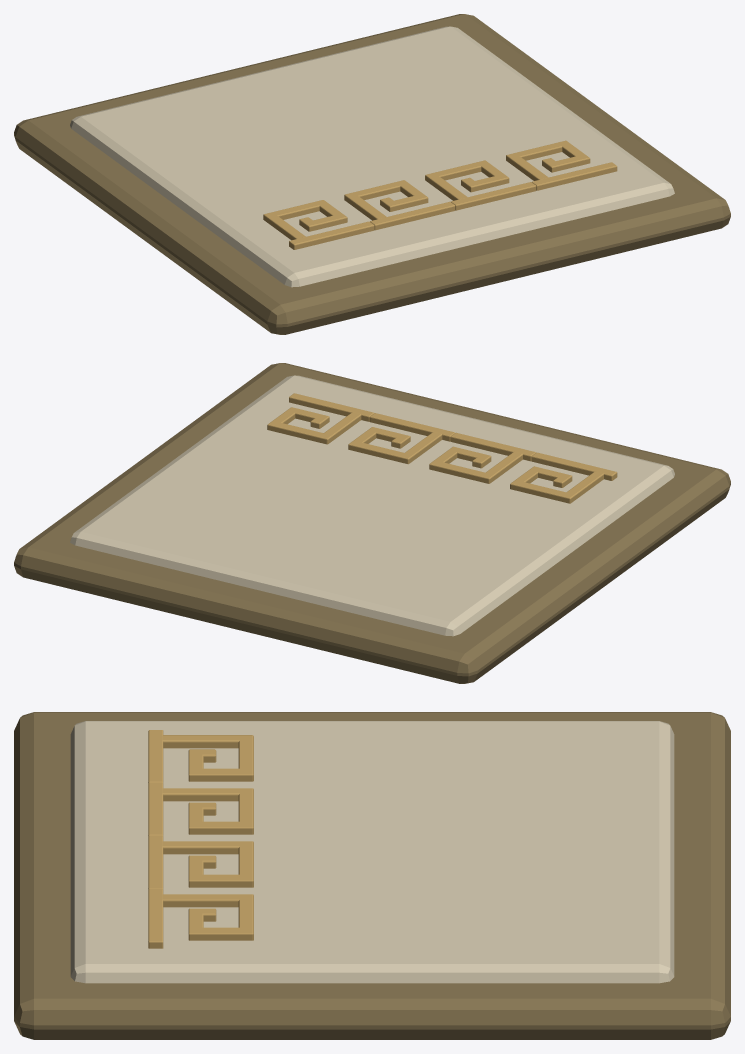
File: plate.glb
3 renders of one model, top to bottom at view 1: azimuth 30°, elevation 25°; view 2: azimuth 150°, elevation 25°; view 3: azimuth 270°, elevation 25°, orthographic. The views are drawn at different scales.
Parts seen in each view (by area): view 1: Moving slab.001, Pressure plate surround.001, Greek key relief.198; view 2: Moving slab.001, Pressure plate surround.001, Greek key relief.198; view 3: Moving slab.001, Pressure plate surround.001, Greek key relief.198.
Boxes of the visible parts, bbox=[...] form: Moving slab.001: bbox=[70, 26, 674, 287]; Pressure plate surround.001: bbox=[14, 14, 730, 334]; Greek key relief.198: bbox=[263, 140, 617, 249]; Moving slab.001: bbox=[70, 375, 674, 636]; Pressure plate surround.001: bbox=[14, 363, 730, 683]; Greek key relief.198: bbox=[267, 393, 617, 503]; Moving slab.001: bbox=[70, 721, 674, 983]; Pressure plate surround.001: bbox=[14, 712, 730, 1039]; Greek key relief.198: bbox=[148, 730, 253, 948].
Size of the model in its own units: 1.6 by 0.15 by 1.6.
